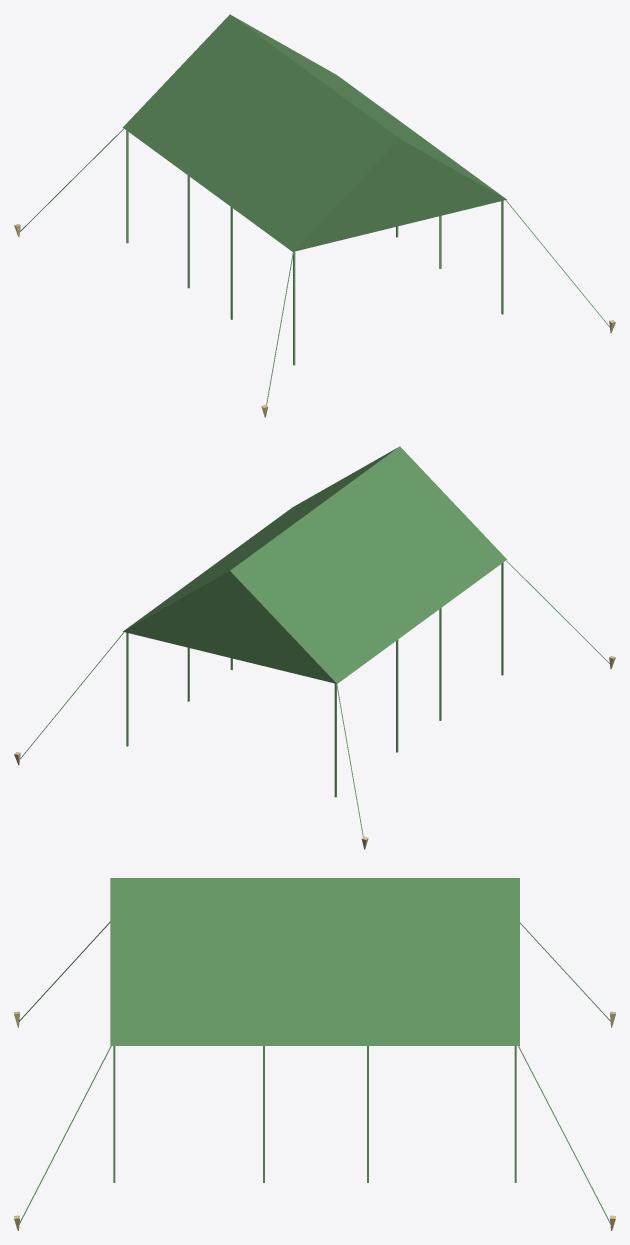
File: Tents(1).glb
3 views of the same model, one above another, from view 1: azimuth 30°, elevation 25°; view 2: azimuth 150°, elevation 25°; view 3: azimuth 270°, elevation 25° (orthographic). The views are drawn at different scales.
Visible parts, largest first — view 1: Root; view 2: Root; view 3: Root.
Part boxes in pixels (x1=…): Root: x1=14, y1=14, x2=615, y2=417; Root: x1=14, y1=446, x2=615, y2=849; Root: x1=14, y1=878, x2=615, y2=1230.
Size of the model in its own units: 4.71 by 2.67 by 5.79.
